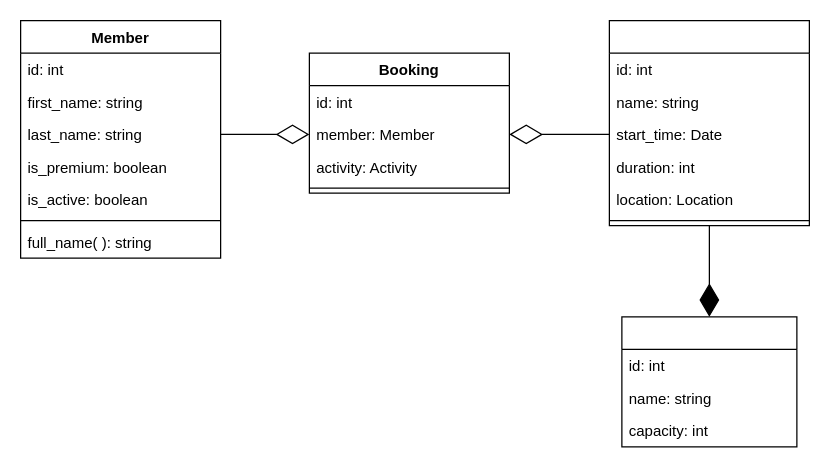
Image size: 830x468. Some labels were removed from this diagram. The shapes that lost their labels are listed below. From the top down, each one's box as (x1, y1, x2, y2) in pixels, then its label:
(608, 19, 809, 226): Activity
(621, 316, 797, 447): Location
